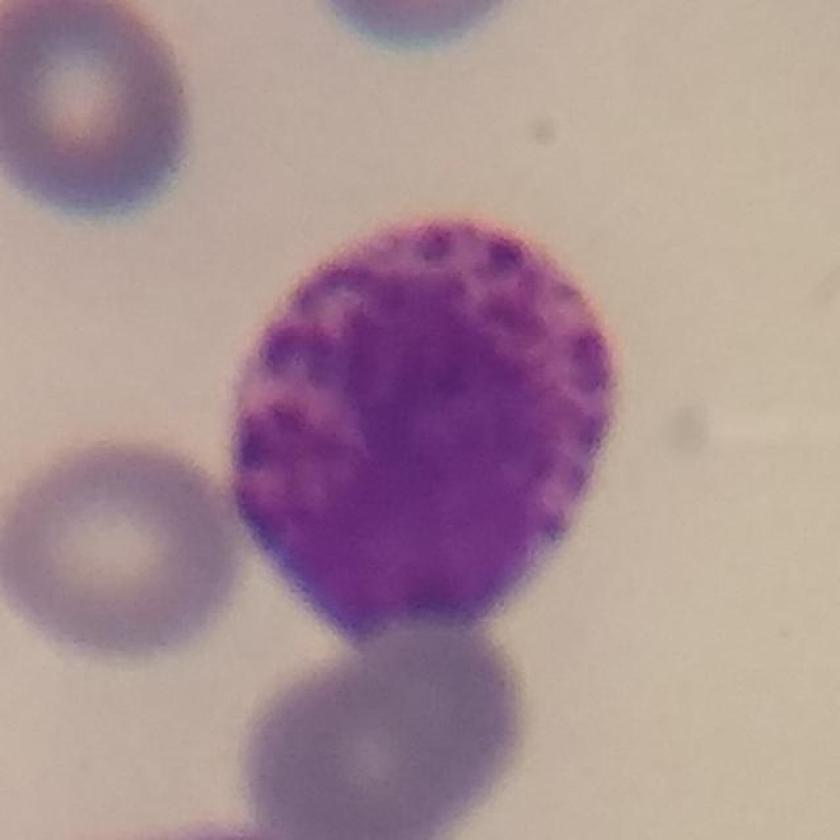basophil: (228, 206, 631, 653)
